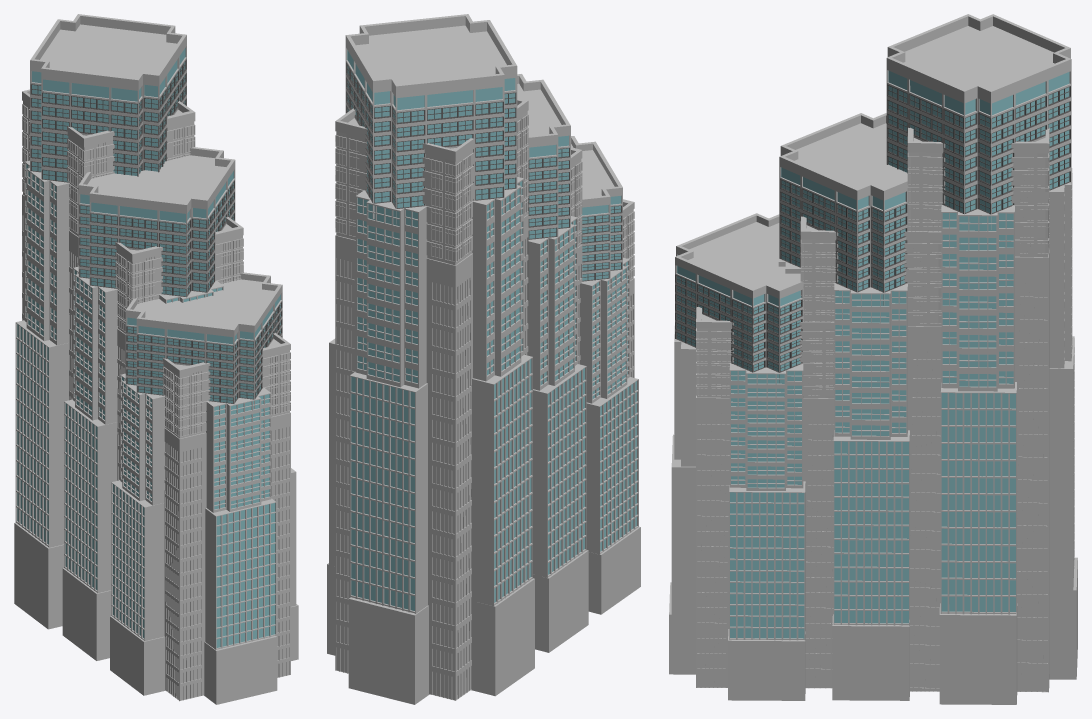
Rendered from SM_bulding_48.fbx.
The picture shows the model from 3 angles, left to right: view 1: azimuth 30°, elevation 25°; view 2: azimuth 150°, elevation 25°; view 3: azimuth 270°, elevation 25°; orthographic projection. The views are drawn at different scales.
Visible parts, largest first — view 1: SM_bulding_48; view 2: SM_bulding_48; view 3: SM_bulding_48.
Boxes of the visible parts, x1,y1,x2,y2 form: SM_bulding_48: [14, 14, 298, 704]; SM_bulding_48: [327, 14, 640, 704]; SM_bulding_48: [669, 14, 1077, 704].
Size of the model in its own units: 11759 by 40122 by 24369.
